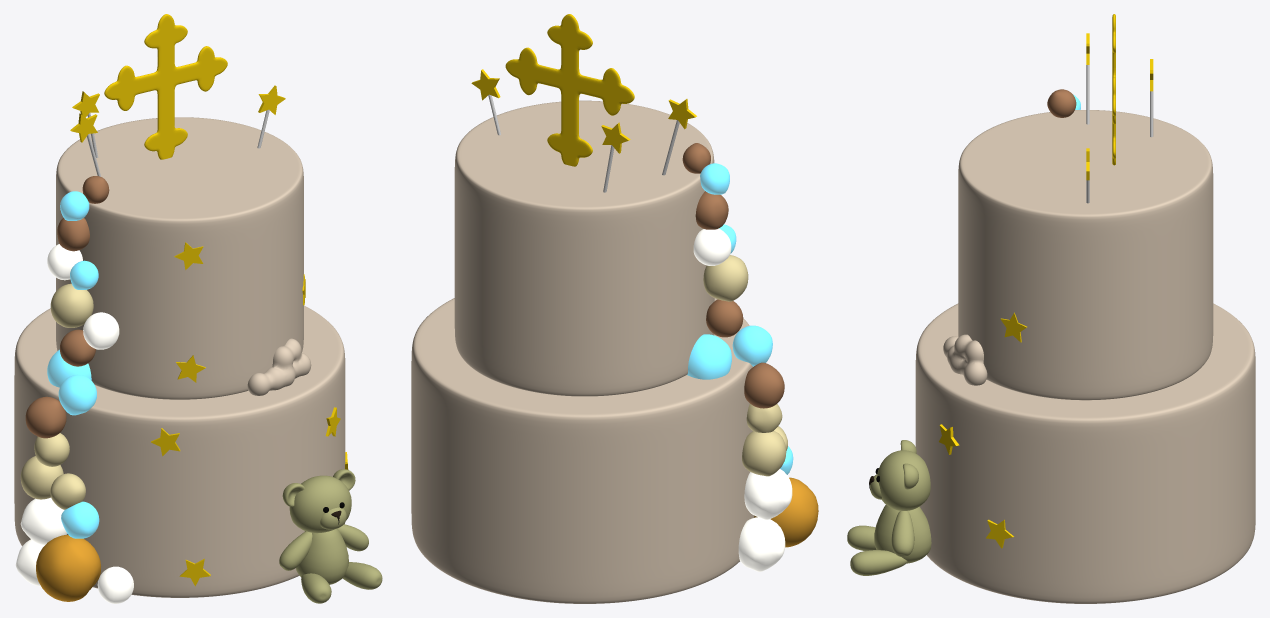
The model's file is Christening_1.glb.
3 views of the same model, side by side, from view 1: azimuth 30°, elevation 25°; view 2: azimuth 150°, elevation 25°; view 3: azimuth 270°, elevation 25° (orthographic). The views are drawn at different scales.
Visible parts, largest first — view 1: Circle, Circle.002, Object_26, Cross 1, Sphere, Sphere.028, Sphere.003, Sphere.012, Sphere.007, Sphere.015, Sphere.006, Sphere.004 (+12 smaller); view 2: Circle.002, Circle, Cross 1, Sphere.013, Sphere.003, Sphere, Sphere.006, Sphere.008, Sphere.012, Sphere.007, Sphere.015, Sphere.014 (+5 smaller); view 3: Circle.002, Circle, Object_26, Sphere.028, Sphere.019, Cross 1.
Boxes of the visible parts, bbox=[...] form: Circle: bbox=[56, 117, 303, 399]; Circle.002: bbox=[14, 305, 345, 597]; Object_26: bbox=[279, 469, 382, 603]; Cross 1: bbox=[104, 14, 227, 159]; Sphere: bbox=[36, 535, 100, 601]; Sphere.028: bbox=[247, 338, 311, 395]; Sphere.003: bbox=[20, 497, 67, 545]; Sphere.012: bbox=[50, 283, 93, 327]; Sphere.007: bbox=[25, 396, 66, 438]; Sphere.015: bbox=[58, 375, 96, 415]; Sphere.006: bbox=[20, 456, 63, 499]; Sphere.004: bbox=[61, 501, 99, 538]; Circle.002: bbox=[411, 298, 754, 603]; Circle: bbox=[454, 100, 714, 396]; Cross 1: bbox=[505, 14, 634, 166]; Sphere.013: bbox=[738, 517, 785, 571]; Sphere.003: bbox=[744, 469, 792, 519]; Sphere: bbox=[754, 477, 818, 547]; Sphere.006: bbox=[742, 431, 786, 476]; Sphere.008: bbox=[687, 334, 731, 379]; Sphere.012: bbox=[703, 255, 748, 301]; Sphere.007: bbox=[744, 362, 784, 408]; Sphere.015: bbox=[732, 325, 772, 366]; Sphere.014: bbox=[693, 228, 731, 265]; Circle.002: bbox=[915, 303, 1255, 603]; Circle: bbox=[958, 110, 1213, 400]; Object_26: bbox=[847, 440, 931, 575]; Sphere.028: bbox=[943, 334, 987, 385]; Sphere.019: bbox=[1047, 89, 1076, 117]; Cross 1: bbox=[1112, 14, 1115, 165].
Size of the model in its own units: 0.2237 by 0.3398 by 0.2387.
